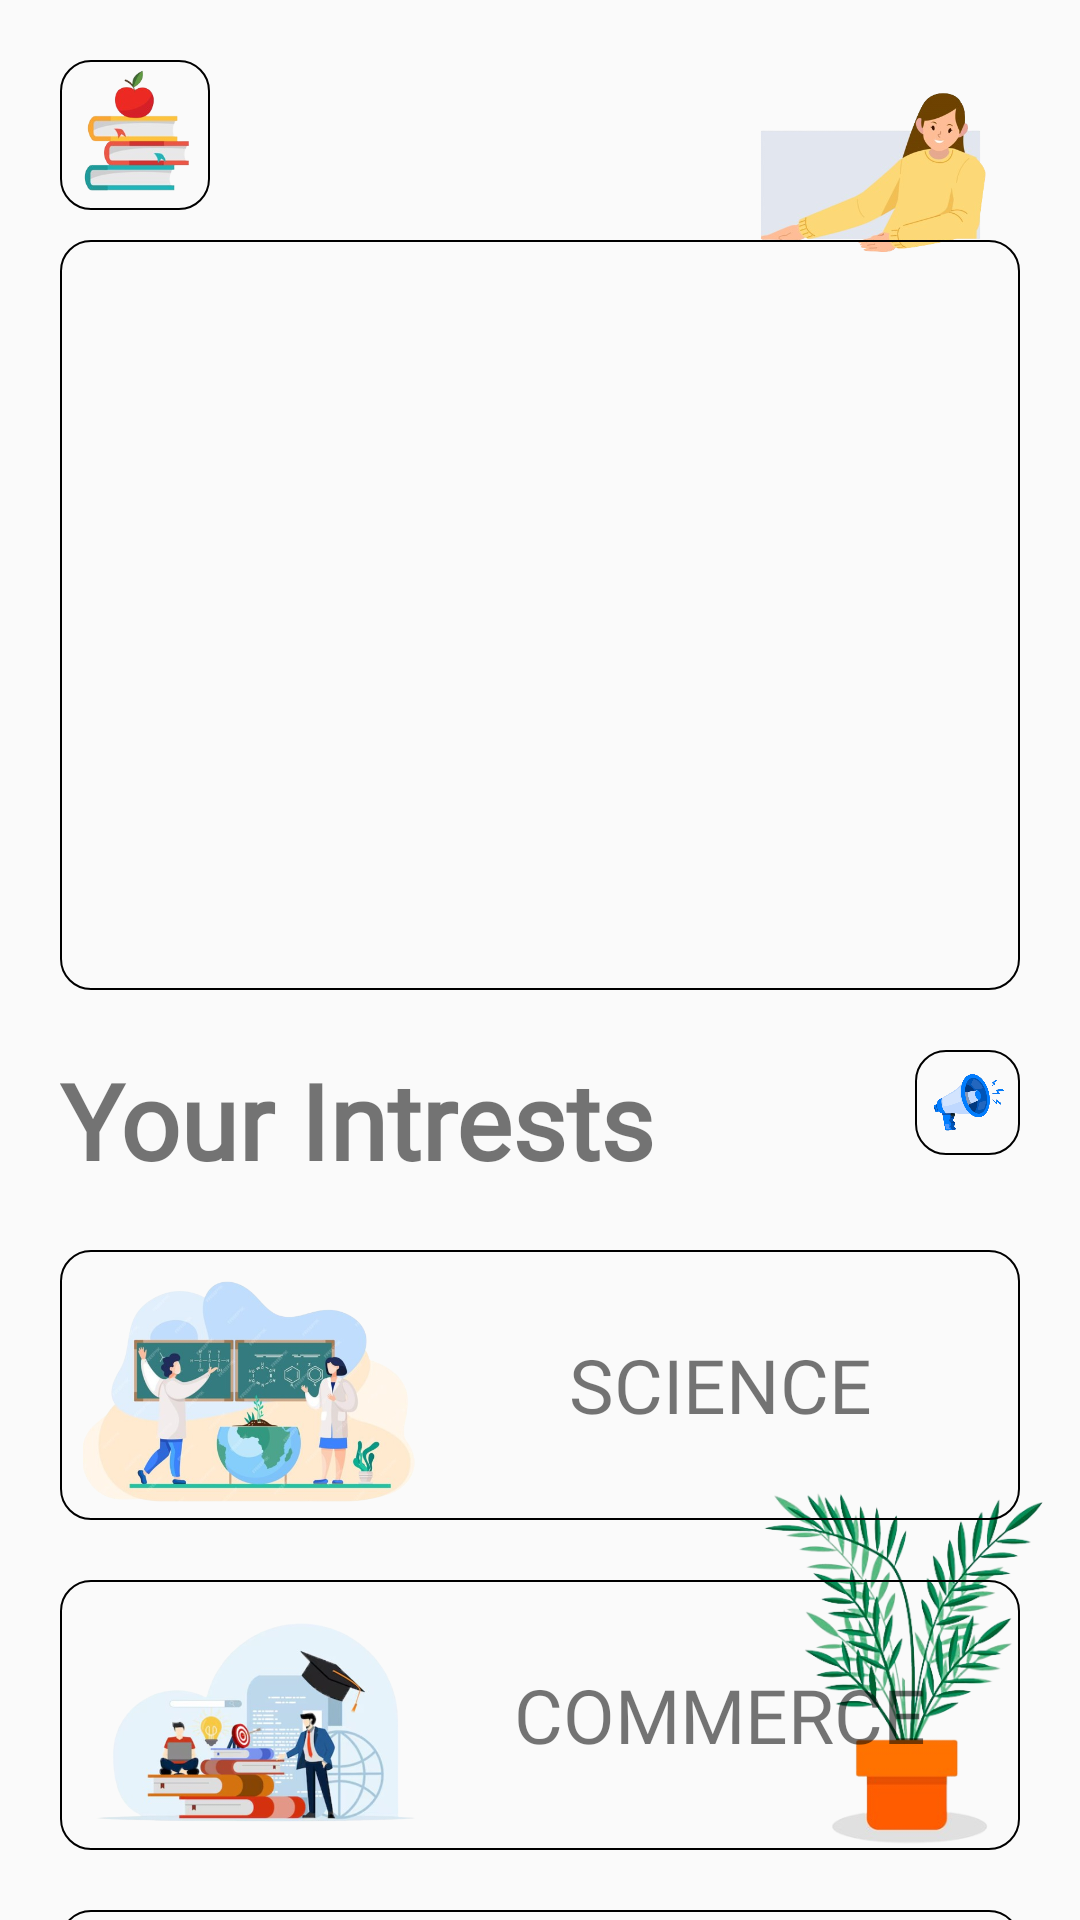

Where to tap for icons on this 1080w x 1920h app screen, as [x,y]:
commers: [256,1722]
speaker: [967,1102]
